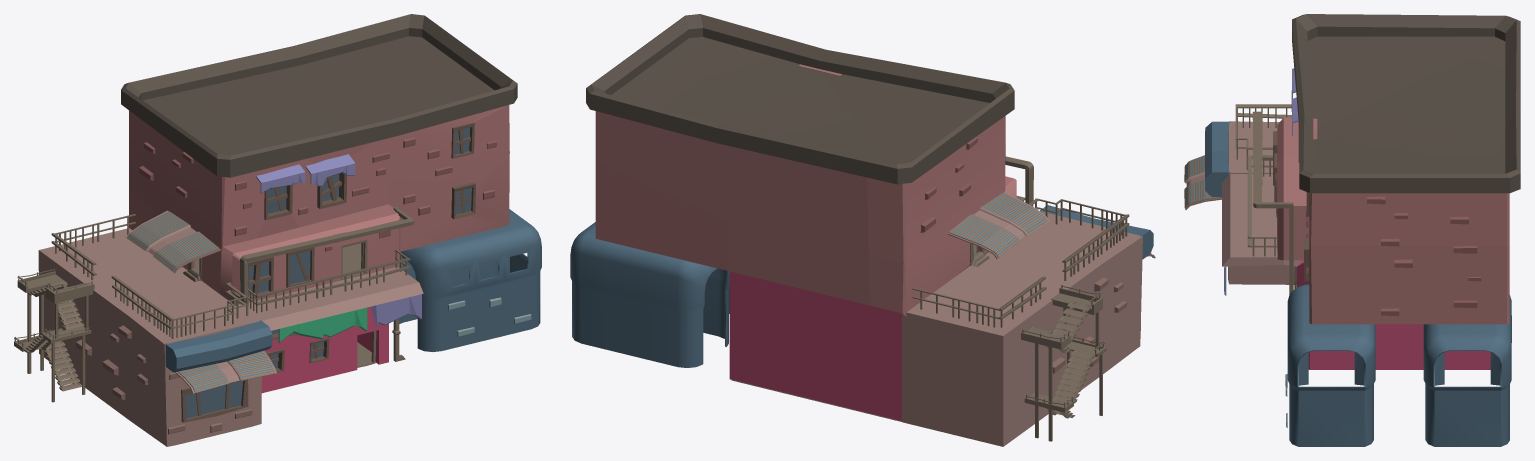
File: SM_House_5.fbx
3 renders of one model, left to right at view 1: azimuth 30°, elevation 25°; view 2: azimuth 150°, elevation 25°; view 3: azimuth 270°, elevation 25°, orthographic. The views are drawn at different scales.
Visible parts, largest first — view 1: SM_House_5; view 2: SM_House_5; view 3: SM_House_5.
Part boxes in pixels (bbox=[...]): SM_House_5: bbox=[14, 14, 541, 446]; SM_House_5: bbox=[570, 14, 1155, 446]; SM_House_5: bbox=[1184, 14, 1520, 446].
Size of the model in its own units: 3071 by 1841 by 1613.
Materials: 1 (1 with a texture image).
